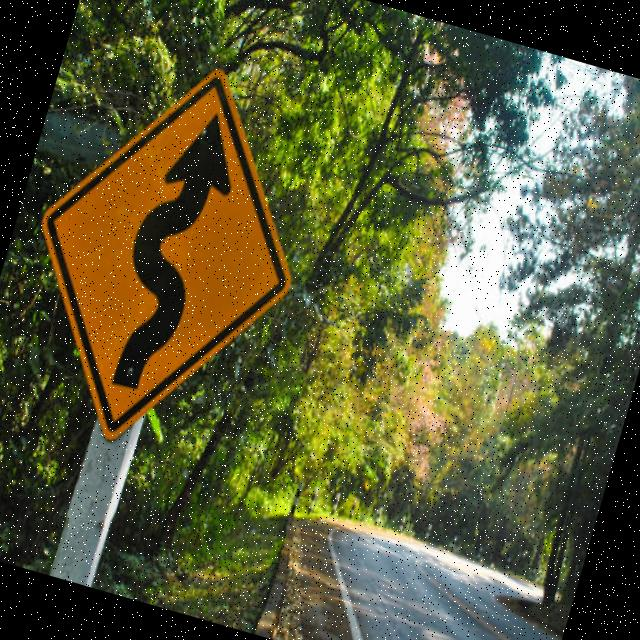left_sharp_curve: (0, 25, 347, 476)
